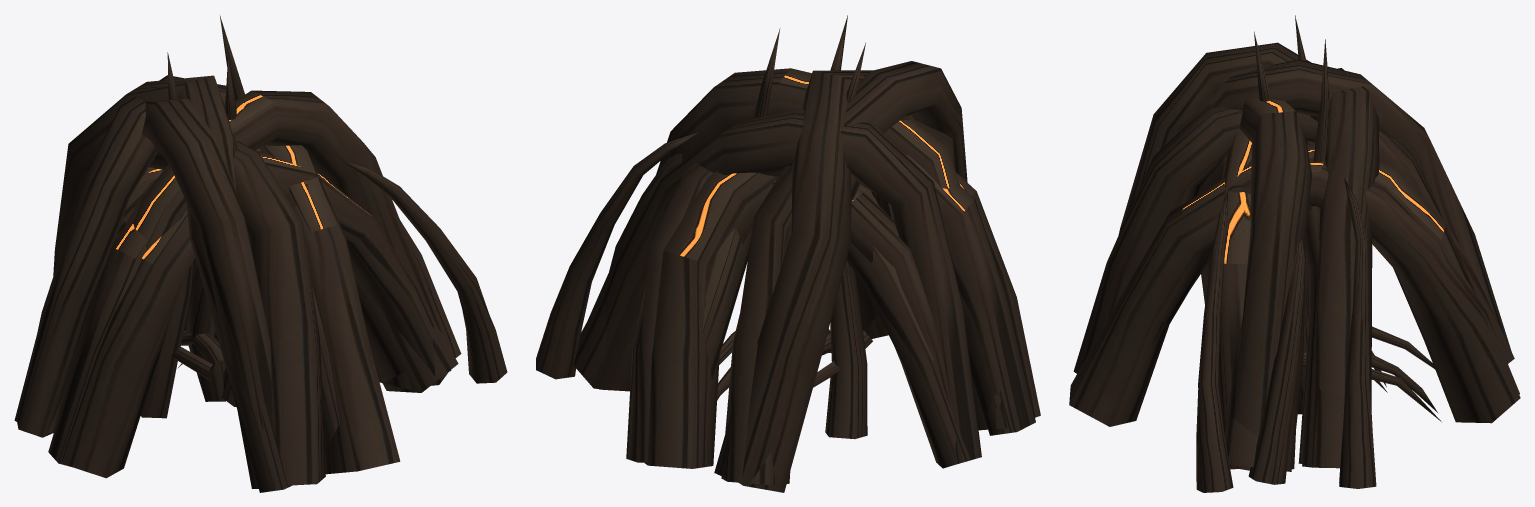
The model's file is env_roots_barrier_t238-CBtdsPSa.glb.
3 views of the same model, side by side, from view 1: azimuth 30°, elevation 25°; view 2: azimuth 150°, elevation 25°; view 3: azimuth 270°, elevation 25° (orthographic). The views are drawn at different scales.
Visible parts, largest first — view 1: roots_b, roots_a, roots_c, roots_cap, bank_root_a, bank_root_b; view 2: roots_c, roots_b, roots_a, roots_cap, bank_root_b; view 3: roots_b, roots_a, roots_c, roots_cap, bank_root_b, bank_root_a.
Boxes of the visible parts, <box> form: roots_b: <box>17,52,448,488</box>; roots_a: <box>31,16,451,486</box>; roots_c: <box>14,56,458,492</box>; roots_cap: <box>341,160,507,383</box>; bank_root_a: <box>181,330,223,375</box>; bank_root_b: <box>171,330,218,380</box>; roots_c: <box>573,15,1035,492</box>; roots_b: <box>588,43,1040,484</box>; roots_a: <box>598,28,1013,477</box>; roots_cap: <box>536,132,697,379</box>; bank_root_b: <box>719,329,872,387</box>; roots_b: <box>1118,15,1520,469</box>; roots_a: <box>1069,39,1330,470</box>; roots_c: <box>1177,31,1519,471</box>; roots_cap: <box>1196,178,1376,492</box>; bank_root_b: <box>1302,326,1441,421</box>; bank_root_a: <box>1371,351,1438,413</box>.
Size of the model in its own units: 2.09 by 1.79 by 1.98.
Materials: 2 (2 with a texture image).
